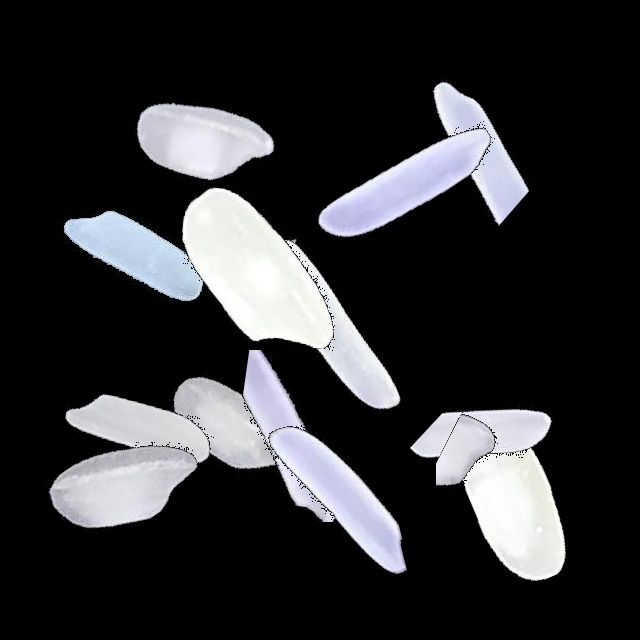Broken: (332, 55, 582, 228), (199, 350, 449, 522), (381, 381, 631, 537), (436, 351, 543, 601), (124, 192, 374, 280)
Full: (104, 302, 354, 552), (9, 129, 259, 379), (207, 202, 457, 452), (282, 57, 532, 307), (212, 375, 462, 625), (135, 141, 385, 391), (78, 11, 328, 261), (12, 300, 262, 550), (387, 377, 637, 627), (0, 356, 250, 606)
